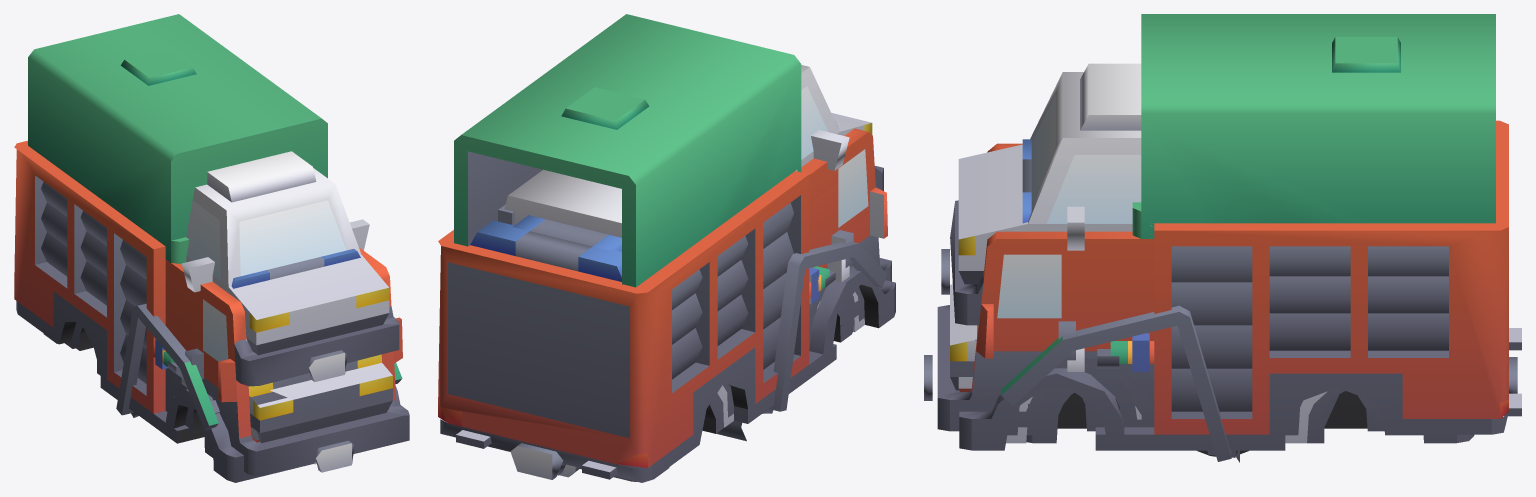
File: cars.glb
3 views of the same model, side by side, from view 1: azimuth 30°, elevation 25°; view 2: azimuth 150°, elevation 25°; view 3: azimuth 270°, elevation 25° (orthographic). The views are drawn at different scales.
Parts seen in each view (by area): view 1: delivery, firetruck, garbage-truck, ambulance; view 2: firetruck, delivery, ambulance, garbage-truck, van, truck, police; view 3: firetruck, delivery, garbage-truck, van, truck, sedan, ambulance, suv, police.
Part boxes in pixels (x1=…): delivery: x1=28, y1=14, x2=399, y2=386; firetruck: x1=14, y1=140, x2=409, y2=482; garbage-truck: x1=73, y1=237, x2=406, y2=476; ambulance: x1=93, y1=346, x2=388, y2=464; firetruck: x1=438, y1=121, x2=895, y2=482; delivery: x1=454, y1=14, x2=883, y2=441; ambulance: x1=504, y1=169, x2=849, y2=475; garbage-truck: x1=456, y1=230, x2=891, y2=479; van: x1=487, y1=267, x2=852, y2=481; truck: x1=723, y1=265, x2=864, y2=417; police: x1=717, y1=270, x2=864, y2=427; firetruck: x1=959, y1=120, x2=1517, y2=455; delivery: x1=941, y1=14, x2=1495, y2=462; garbage-truck: x1=924, y1=202, x2=1521, y2=461; van: x1=1026, y1=333, x2=1474, y2=443; truck: x1=993, y1=341, x2=1452, y2=435; sedan: x1=1028, y1=341, x2=1401, y2=435; ambulance: x1=958, y1=225, x2=1345, y2=453; suv: x1=1018, y1=368, x2=1384, y2=427; police: x1=1006, y1=349, x2=1327, y2=443.
Size of the model in its own units: 1.6 by 2.5 by 3.45.
Materials: 1 (1 with a texture image).
